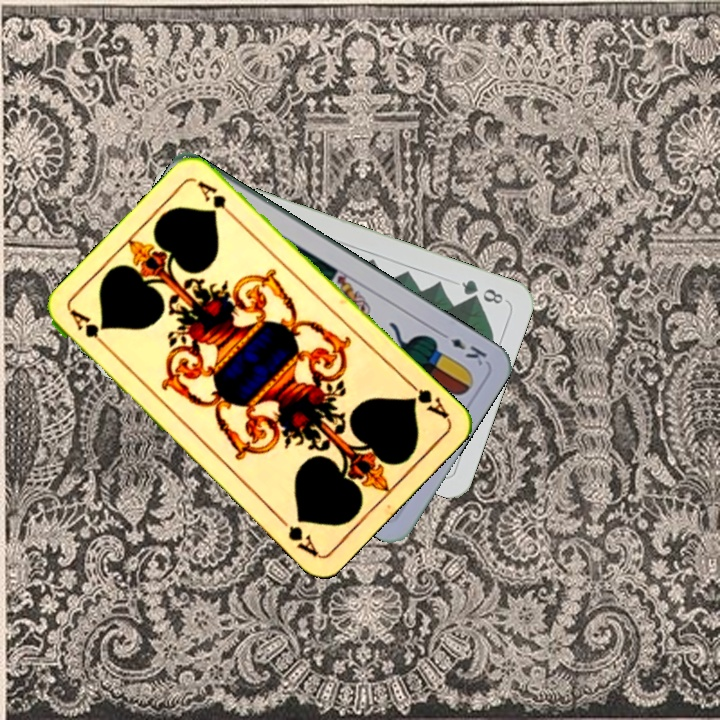EK: (435, 328, 490, 369)
G8: (457, 275, 506, 307)
GA: (66, 305, 113, 354), (403, 377, 453, 422)
